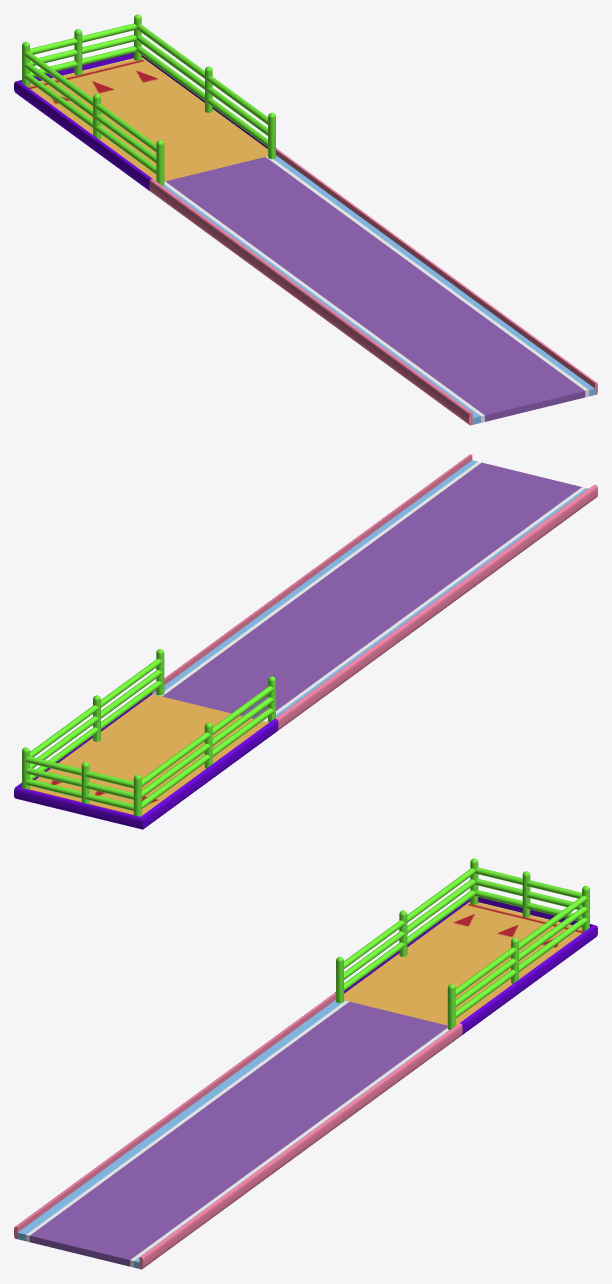
Rendered from Start25M.fbx.
The picture shows the model from 3 angles, top to bottom: view 1: azimuth 30°, elevation 25°; view 2: azimuth 150°, elevation 25°; view 3: azimuth 330°, elevation 25°; orthographic projection.
Parts seen in each view (by area): view 1: Road, Rail, Road_Side; view 2: Road, Road_Side, Rail; view 3: Road, Rail, Road_Side.
Part boxes in pixels (x1=…): Road: x1=28, y1=57, x2=594, y2=424; Rail: x1=22, y1=14, x2=275, y2=185; Road_Side: x1=14, y1=53, x2=597, y2=425; Road: x1=30, y1=460, x2=588, y2=815; Road_Side: x1=14, y1=454, x2=597, y2=829; Rail: x1=22, y1=649, x2=275, y2=816; Road: x1=17, y1=901, x2=583, y2=1268; Rail: x1=336, y1=858, x2=589, y2=1030; Road_Side: x1=14, y1=897, x2=597, y2=1269.
Bounding box in the file's own units: 410 × 156 × 2507.
